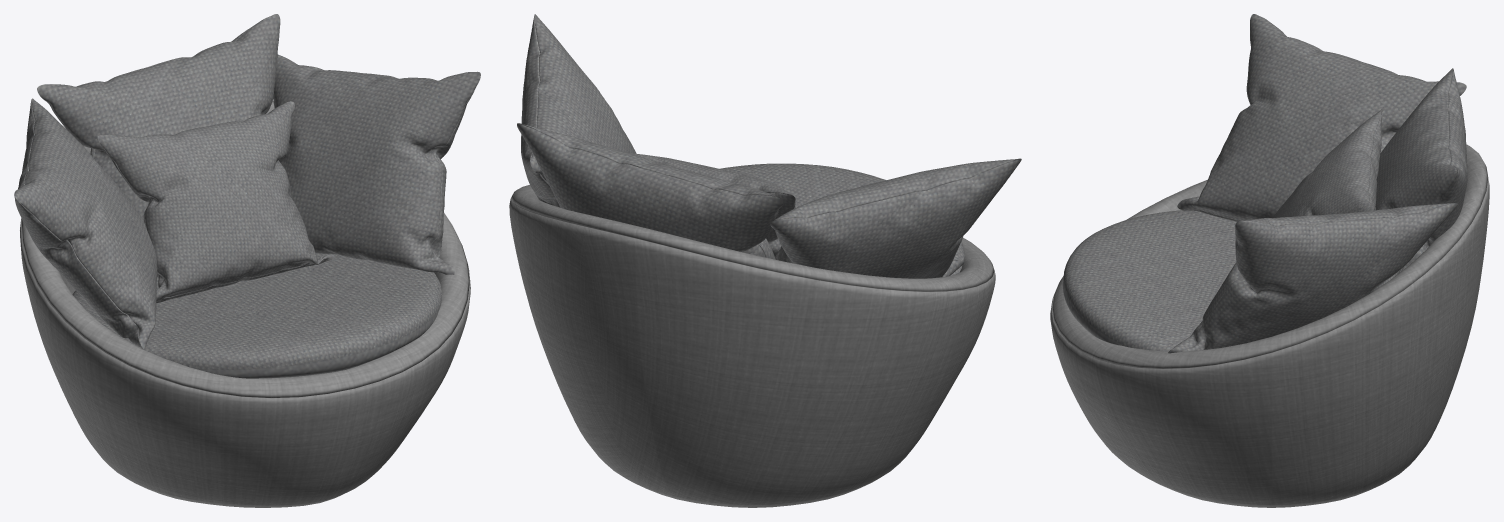
File: sofa.glb
3 renders of one model, left to right at view 1: azimuth 30°, elevation 25°; view 2: azimuth 150°, elevation 25°; view 3: azimuth 270°, elevation 25°, orthographic. The views are drawn at different scales.
Parts seen in each view (by area): view 1: sofa, pillow1, sofa seat, small pillow, pillow3, pillow2; view 2: sofa, pillow3, pillow2, pillow1, sofa seat, small pillow; view 3: sofa, pillow3, pillow1, sofa seat, pillow2, small pillow.
Part boxes in pixels (x1=…): sofa: x1=20, y1=101, x2=470, y2=507; pillow1: x1=273, y1=54, x2=480, y2=274; sofa seat: x1=72, y1=253, x2=441, y2=378; small pillow: x1=97, y1=101, x2=334, y2=302; pillow3: x1=14, y1=98, x2=157, y2=349; pillow2: x1=37, y1=14, x2=280, y2=219; sofa: x1=509, y1=185, x2=995, y2=507; pillow3: x1=770, y1=158, x2=1021, y2=278; pillow2: x1=517, y1=123, x2=783, y2=259; pillow1: x1=521, y1=14, x2=636, y2=207; sofa seat: x1=719, y1=163, x2=964, y2=275; small pillow: x1=629, y1=153, x2=795, y2=256; sofa: x1=1050, y1=144, x2=1489, y2=507; pillow3: x1=1177, y1=14, x2=1466, y2=221; pillow1: x1=1168, y1=203, x2=1457, y2=353; sofa seat: x1=1062, y1=210, x2=1236, y2=351; pillow2: x1=1375, y1=68, x2=1467, y2=272; small pillow: x1=1272, y1=109, x2=1382, y2=218.
Size of the model in its own units: 1.22 by 0.8887 by 1.01.
Materials: 1 (1 with a texture image).
